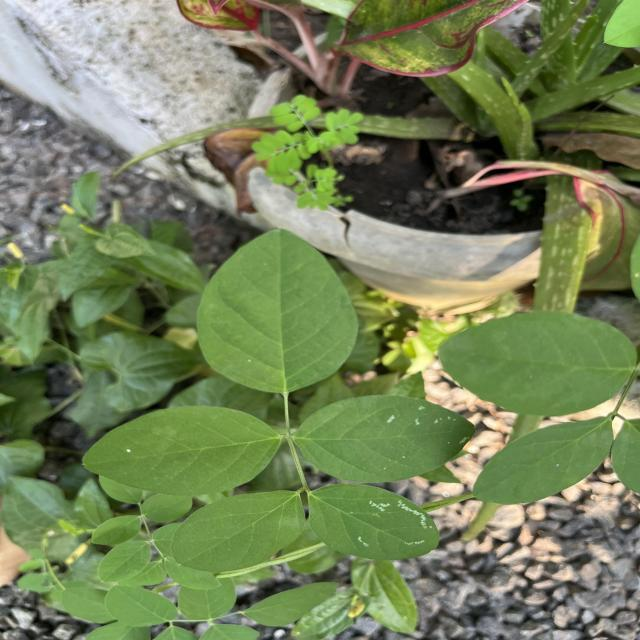Clitoria ternatea: (194, 228, 360, 396), (80, 404, 284, 497), (292, 394, 477, 484), (170, 489, 308, 573), (307, 484, 441, 562)
